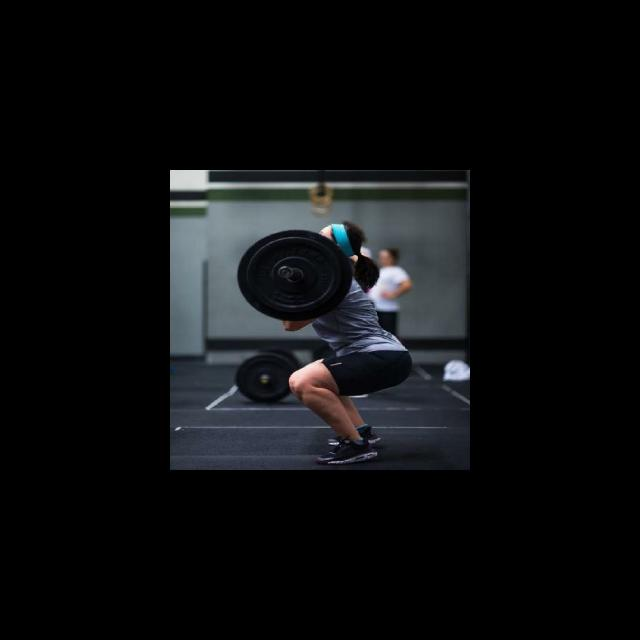barbell: (234, 226, 354, 321)
